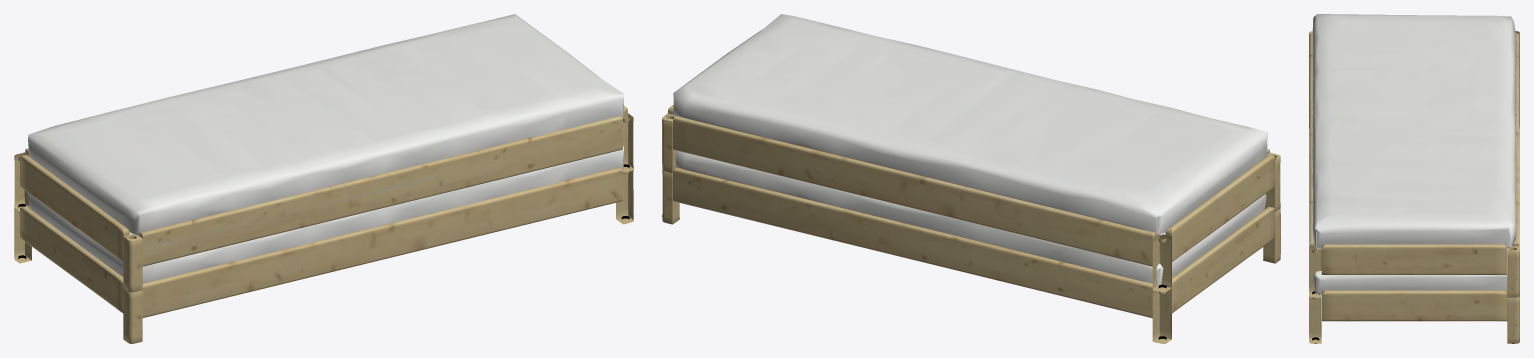
File: 55 - UTÅKER - 疊床附2床墊, 松木Åfjäll 軟硬適中, 80x200 公分 IKEA 線上購物.glb
The picture shows the model from 3 angles, left to right: view 1: azimuth 30°, elevation 25°; view 2: azimuth 150°, elevation 25°; view 3: azimuth 270°, elevation 25°; orthographic projection. The views are drawn at different scales.
Visible parts, largest first — view 1: G-89521515-UTAKER; view 2: G-89521515-UTAKER; view 3: G-89521515-UTAKER.
Part boxes in pixels (x1,y1,x2,y2): G-89521515-UTAKER: (14, 14, 633, 343); G-89521515-UTAKER: (662, 14, 1280, 343); G-89521515-UTAKER: (1309, 14, 1519, 343).
Size of the model in its own units: 2.05 by 0.5179 by 0.8289.
1 material, 1 textured.
